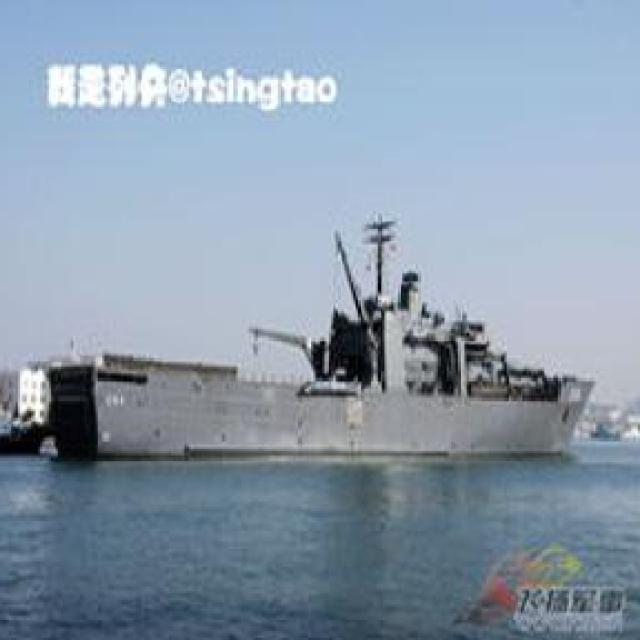navalvessels: (37, 206, 586, 459)
